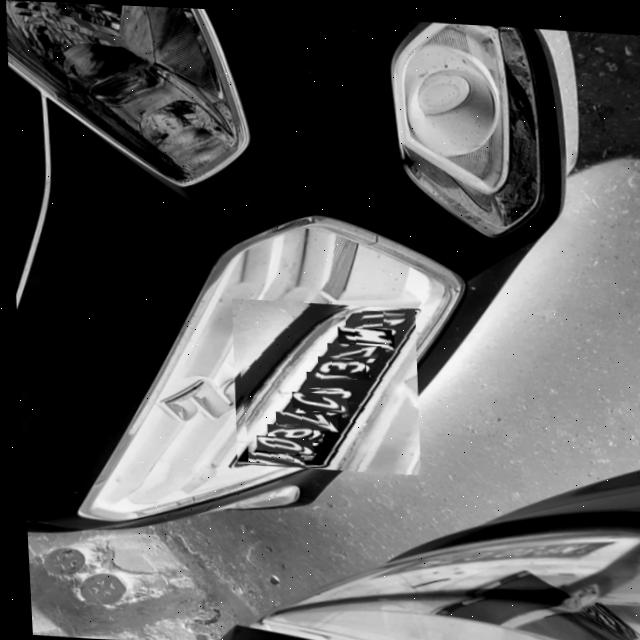0: (302, 368, 350, 387), (251, 432, 299, 449)
1: (243, 448, 289, 461)
3: (314, 352, 363, 372)
7: (271, 408, 325, 425)
9: (262, 420, 309, 437)
C: (287, 387, 337, 406)
IND: (341, 305, 380, 325)
Indian_registered: (242, 308, 412, 463)
P: (334, 322, 388, 341), (323, 339, 378, 357)
